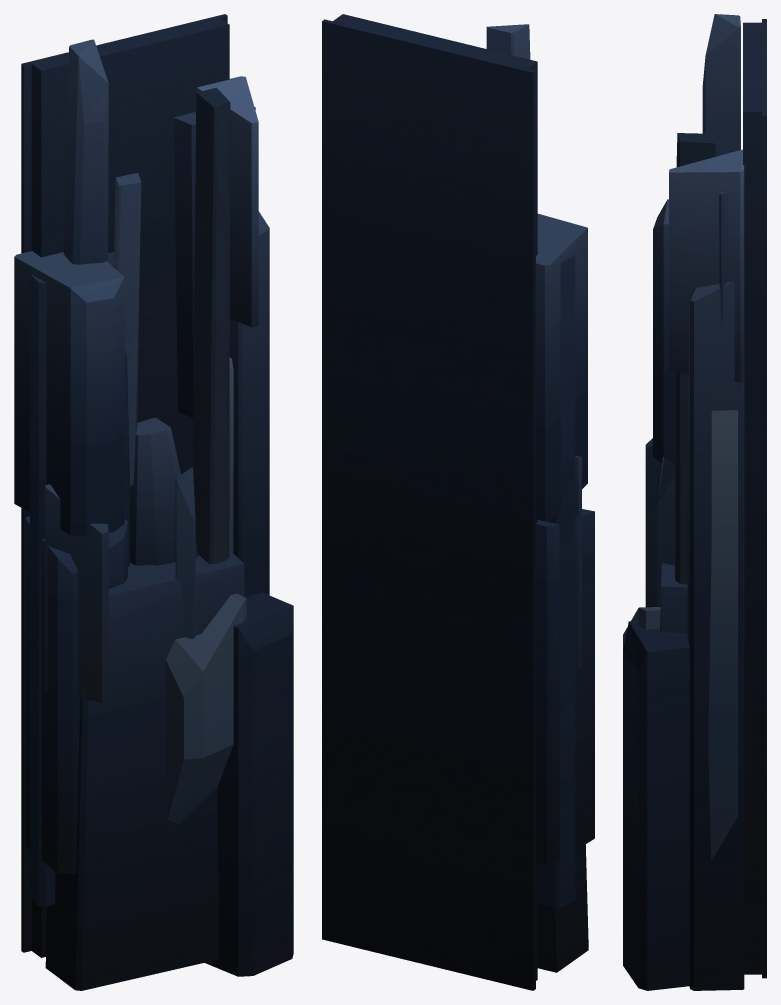
The model's file is Wall_straight_04.glb.
3 views of the same model, side by side, from view 1: azimuth 30°, elevation 25°; view 2: azimuth 150°, elevation 25°; view 3: azimuth 270°, elevation 25° (orthographic). The views are drawn at different scales.
Visible parts, largest first — view 1: Wall_straight_04; view 2: Wall_straight_04; view 3: Wall_straight_04.
Part boxes in pixels (left/top/right/bottom): Wall_straight_04: left=14, top=14, right=293, bottom=990; Wall_straight_04: left=322, top=14, right=594, bottom=990; Wall_straight_04: left=623, top=14, right=766, bottom=990.
Size of what is drawn, in the model's own units: 14.18 by 55.79 by 8.15.
Materials: 1 (1 with a texture image).
